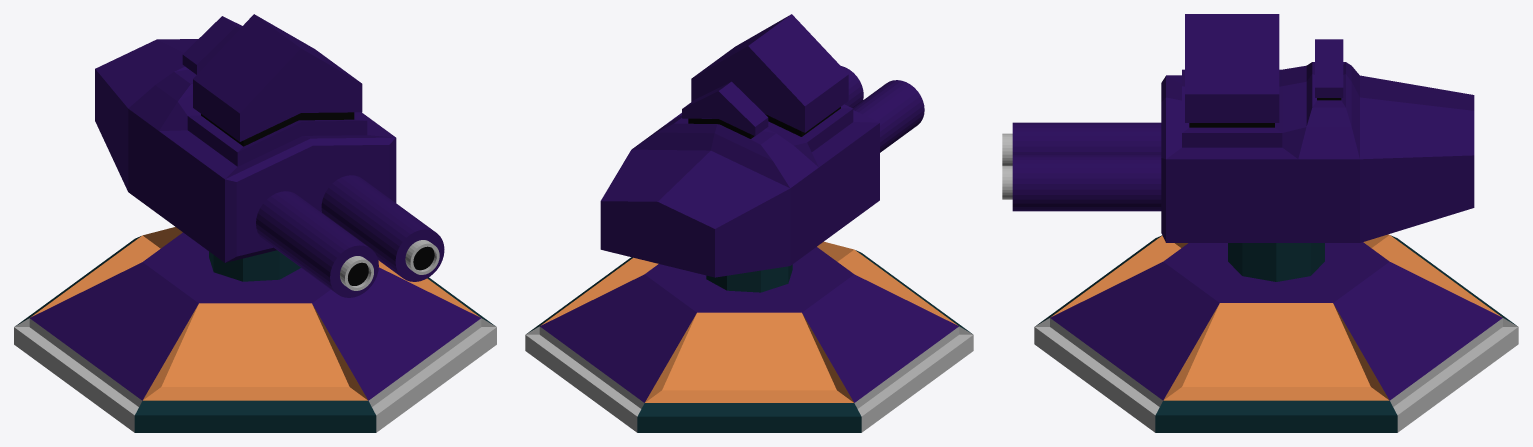
Rendered from HeroTower1.fbx.
3 renders of one model, left to right at view 1: azimuth 30°, elevation 25°; view 2: azimuth 150°, elevation 25°; view 3: azimuth 270°, elevation 25°, orthographic. The views are drawn at different scales.
Parts seen in each view (by area): view 1: Base, Cube.001, Cylinder; view 2: Base, Cube.001, Cylinder; view 3: Cube.001, Base, Cylinder.
Boxes of the visible parts, left/top/right/bottom form: Base: left=14, top=227, right=496, bottom=432; Cube.001: left=95, top=14, right=444, bottom=297; Cylinder: left=209, top=250, right=300, bottom=281; Base: left=525, top=241, right=973, bottom=432; Cube.001: left=600, top=14, right=924, bottom=277; Cylinder: left=706, top=264, right=792, bottom=292; Cube.001: left=1002, top=14, right=1474, bottom=242; Base: left=1034, top=234, right=1518, bottom=432; Cylinder: left=1228, top=243, right=1324, bottom=281.
Bounding box in the file's own units: 173 × 151 × 213.
